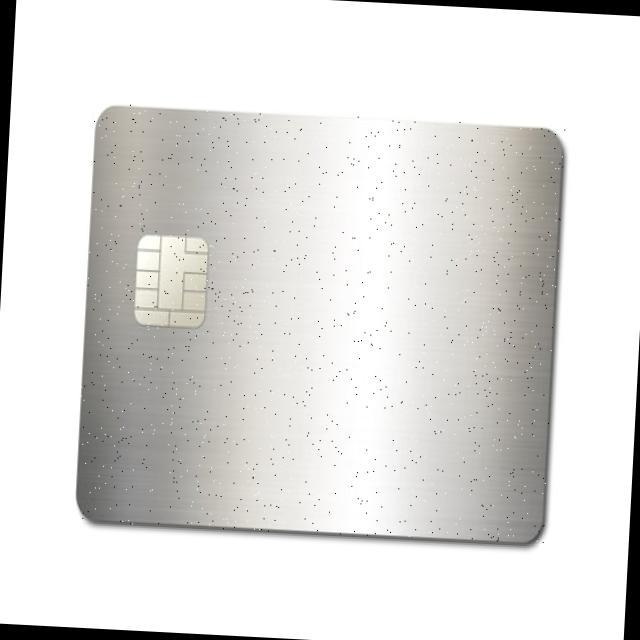payment_card: (75, 103, 564, 545)
